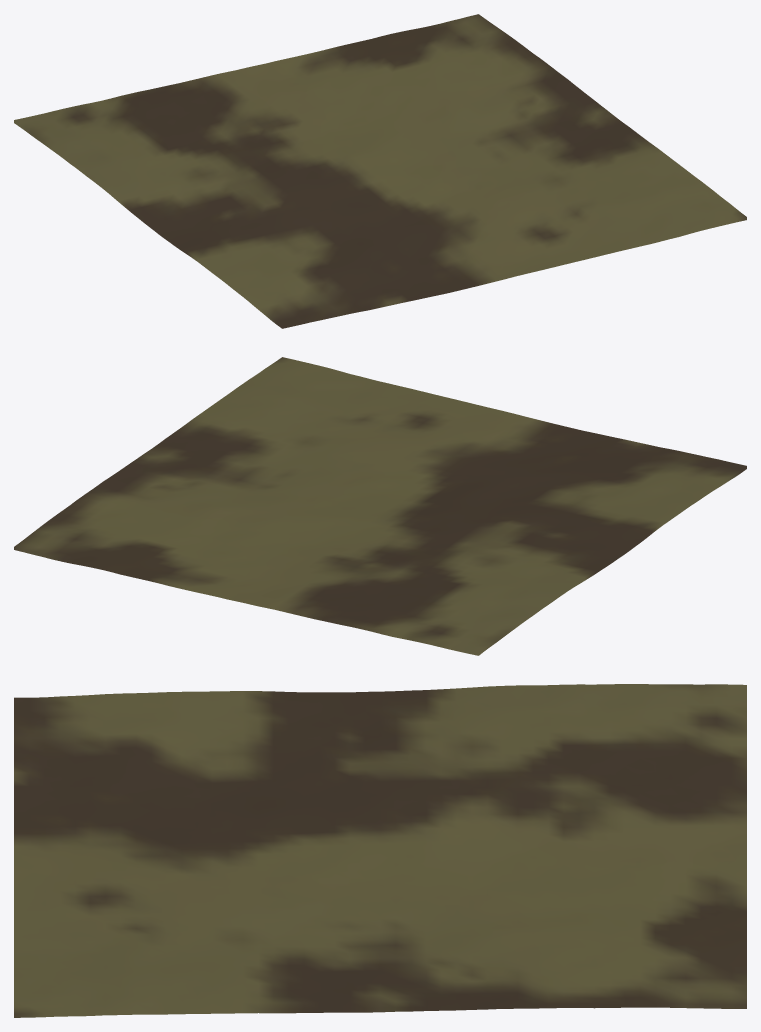
File: land_m_02_07.glb
The picture shows the model from 3 angles, top to bottom: view 1: azimuth 30°, elevation 25°; view 2: azimuth 150°, elevation 25°; view 3: azimuth 270°, elevation 25°; orthographic projection. The views are drawn at different scales.
Visible parts, largest first — view 1: land_m_02_07; view 2: land_m_02_07; view 3: land_m_02_07.
Part boxes in pixels (box(x1,y1,x2,y2)): land_m_02_07: box(14, 14, 746, 328); land_m_02_07: box(14, 357, 746, 655); land_m_02_07: box(14, 684, 746, 1017).
Size of the model in its own units: 960 by 36.09 by 960.
